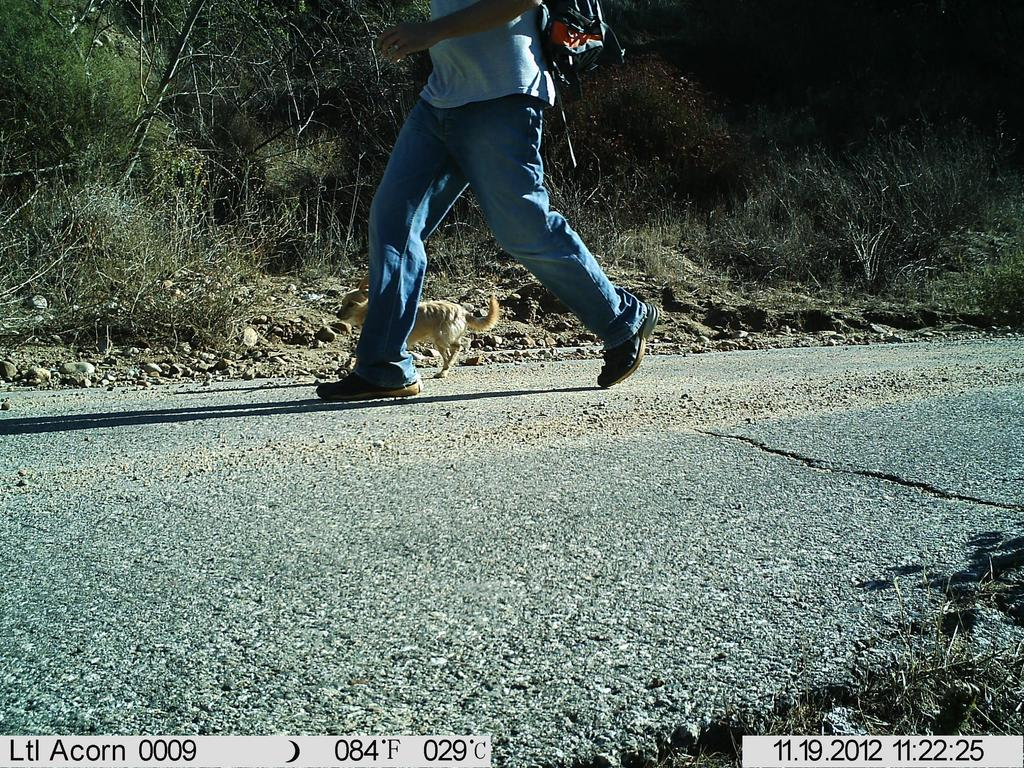dog: (328, 269, 517, 385)
